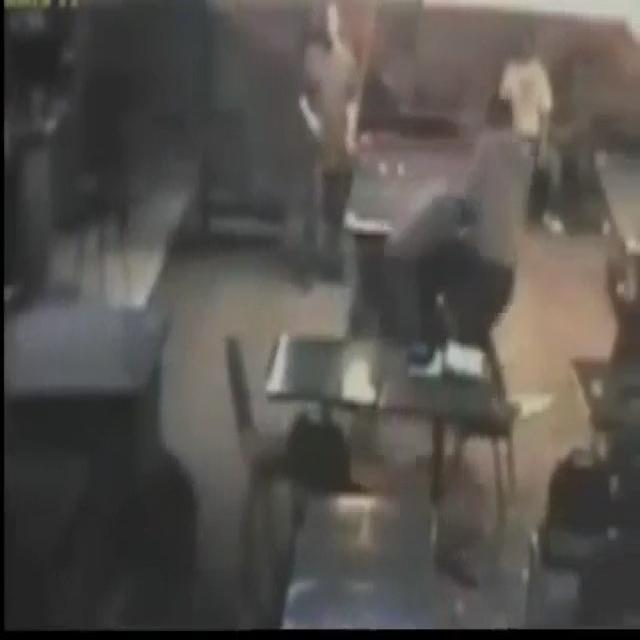fight: (375, 86, 551, 417)
